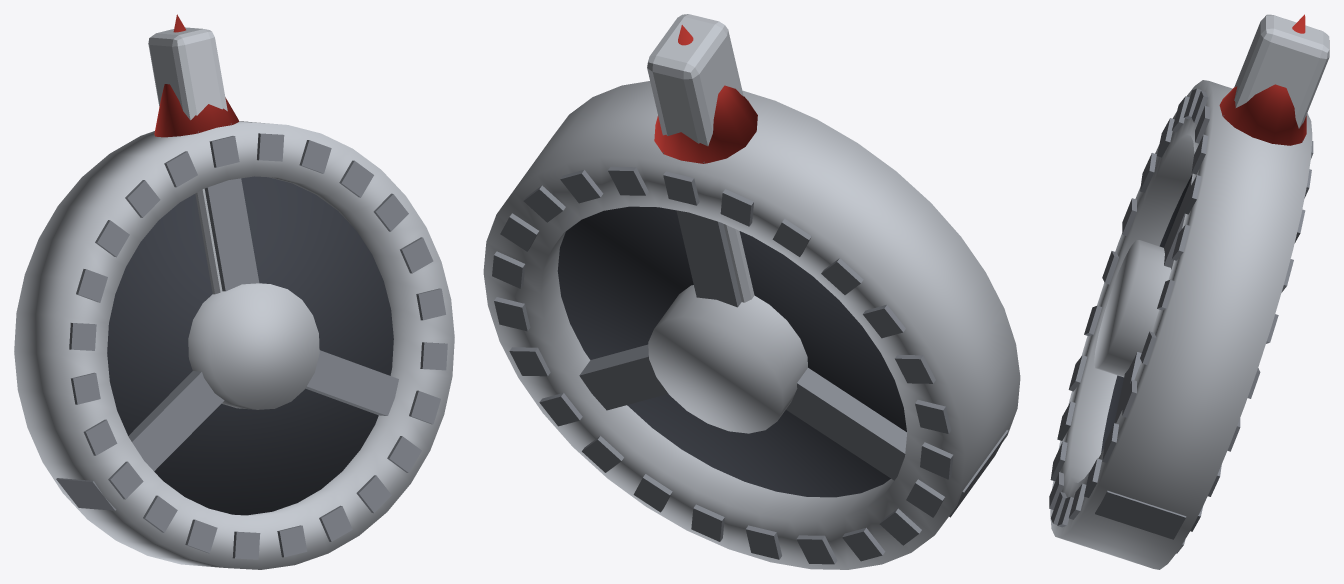
File: target.glb
The picture shows the model from 3 angles, left to right: view 1: azimuth 30°, elevation 25°; view 2: azimuth 150°, elevation 25°; view 3: azimuth 270°, elevation 25°; orthographic projection. The views are drawn at different scales.
Parts seen in each view (by area): view 1: pkt_wheel_rim, pkt_wheel_web, pkt_wheel_hub, pkt_wheel_pointer, pkt_wheel_spoke_1, pkt_wheel_spoke_0, pkt_wheel_spoke_2, pkt_wheel_tip, pkt_wheel_knurl_2, pkt_wheel_knurl_1, pkt_wheel_knurl_8, pkt_wheel_knurl_13 (+20 smaller); view 2: pkt_wheel_rim, pkt_wheel_web, pkt_wheel_hub, pkt_wheel_pointer, pkt_wheel_spoke_1, pkt_wheel_tip, pkt_wheel_spoke_0, pkt_wheel_spoke_2, pkt_wheel_knurl_17, pkt_wheel_knurl_6, pkt_wheel_knurl_23, pkt_wheel_knurl_0 (+20 smaller); view 3: pkt_wheel_rim, pkt_wheel_pointer, pkt_wheel_hub, pkt_wheel_tip, pkt_wheel_spoke_2, pkt_wheel_web, pkt_wheel_spoke_0, pkt_wheel_knurl_4, pkt_wheel_knurl_3, pkt_wheel_knurl_23, pkt_wheel_knurl_0, pkt_wheel_knurl_5 (+4 smaller).
Part boxes in pixels (x1,y1,x2,y2): pkt_wheel_rim: [14, 121, 454, 569]; pkt_wheel_web: [107, 176, 393, 515]; pkt_wheel_hub: [188, 283, 319, 409]; pkt_wheel_pointer: [148, 27, 227, 294]; pkt_wheel_spoke_1: [56, 371, 224, 510]; pkt_wheel_spoke_0: [198, 123, 259, 291]; pkt_wheel_spoke_2: [305, 350, 398, 415]; pkt_wheel_tip: [154, 14, 239, 137]; pkt_wheel_knurl_2: [373, 193, 408, 231]; pkt_wheel_knurl_1: [400, 237, 433, 273]; pkt_wheel_knurl_8: [125, 180, 160, 217]; pkt_wheel_knurl_13: [83, 419, 117, 455]; pkt_wheel_rim: [483, 81, 1020, 569]; pkt_wheel_web: [557, 206, 906, 497]; pkt_wheel_hub: [648, 285, 807, 433]; pkt_wheel_pointer: [647, 14, 754, 302]; pkt_wheel_spoke_1: [786, 368, 1008, 517]; pkt_wheel_tip: [654, 25, 757, 163]; pkt_wheel_spoke_0: [663, 100, 748, 307]; pkt_wheel_spoke_2: [579, 344, 668, 410]; pkt_wheel_knurl_17: [796, 535, 837, 564]; pkt_wheel_knurl_6: [663, 171, 699, 205]; pkt_wheel_knurl_23: [509, 347, 550, 376]; pkt_wheel_knurl_0: [494, 297, 530, 331]; pkt_wheel_rim: [1050, 80, 1312, 569]; pkt_wheel_pointer: [1171, 14, 1329, 269]; pkt_wheel_hub: [1094, 240, 1171, 377]; pkt_wheel_tip: [1219, 14, 1306, 145]; pkt_wheel_spoke_2: [1095, 352, 1186, 539]; pkt_wheel_web: [1101, 174, 1192, 453]; pkt_wheel_spoke_0: [1164, 115, 1302, 267]; pkt_wheel_knurl_4: [1183, 175, 1305, 242]; pkt_wheel_knurl_3: [1172, 224, 1293, 292]; pkt_wheel_knurl_23: [1102, 423, 1221, 496]; pkt_wheel_knurl_0: [1122, 379, 1240, 451]; pkt_wheel_knurl_5: [1191, 134, 1311, 198].
Bounding box in the file's own units: 0.1058 × 0.129 × 0.0615.
